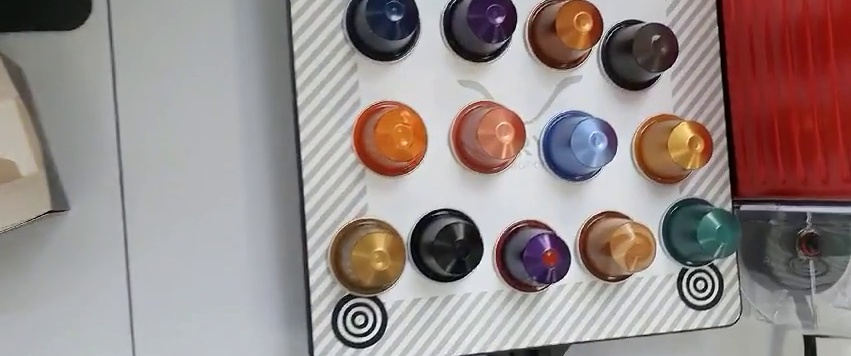capsule_1: (342, 1, 423, 66)
capsule_10: (406, 207, 486, 285)
capsule_11: (493, 220, 572, 296)
capsule_12: (575, 209, 656, 286)
capsule_13: (661, 195, 741, 273)
capsule_2: (442, 1, 519, 66)
capsule_3: (524, 1, 603, 74)
capsule_4: (598, 15, 681, 92)
capsule_5: (349, 97, 429, 175)
capsule_6: (450, 100, 528, 179)
capsule_7: (540, 110, 619, 178)
capsule_8: (633, 111, 714, 187)
capsule_9: (329, 216, 405, 299)
